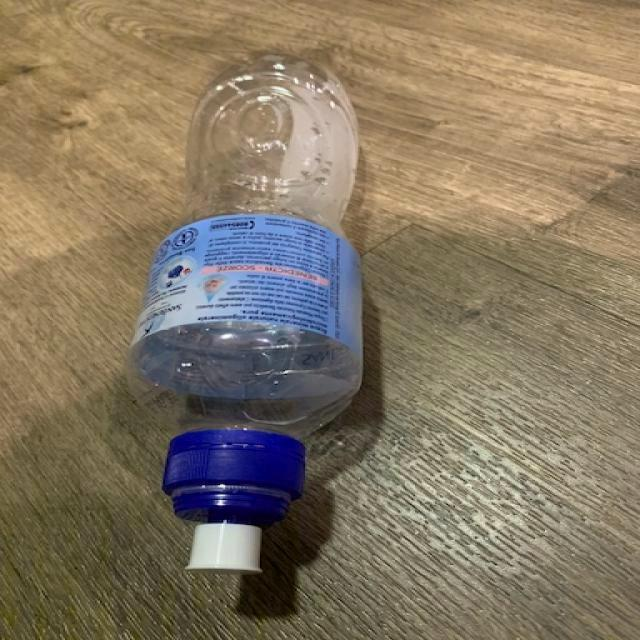bottle: (126, 52, 366, 576)
